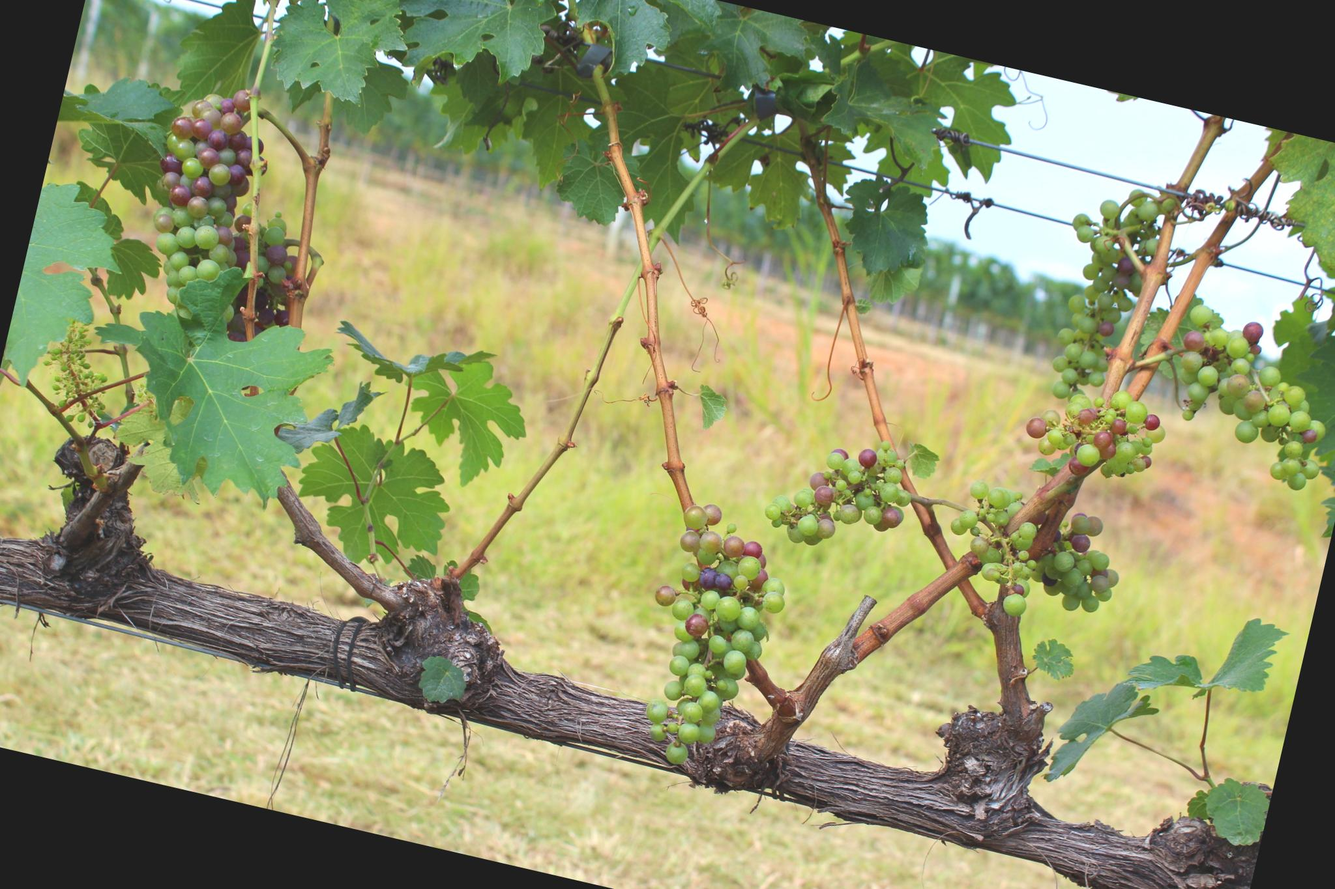Grape Unripe: (619, 496, 793, 776), (1032, 170, 1177, 412), (1156, 301, 1335, 493), (131, 75, 275, 312), (943, 480, 1132, 635), (760, 426, 921, 562), (1019, 369, 1169, 488)
